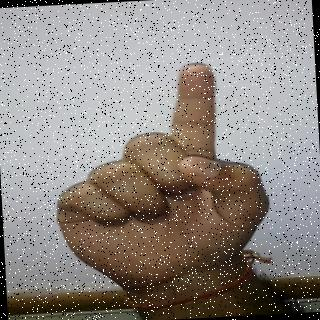I: (42, 53, 285, 284)
